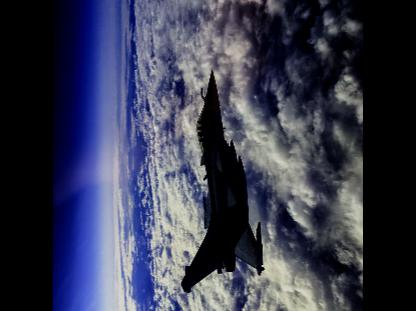RQ4: (181, 67, 264, 291)
